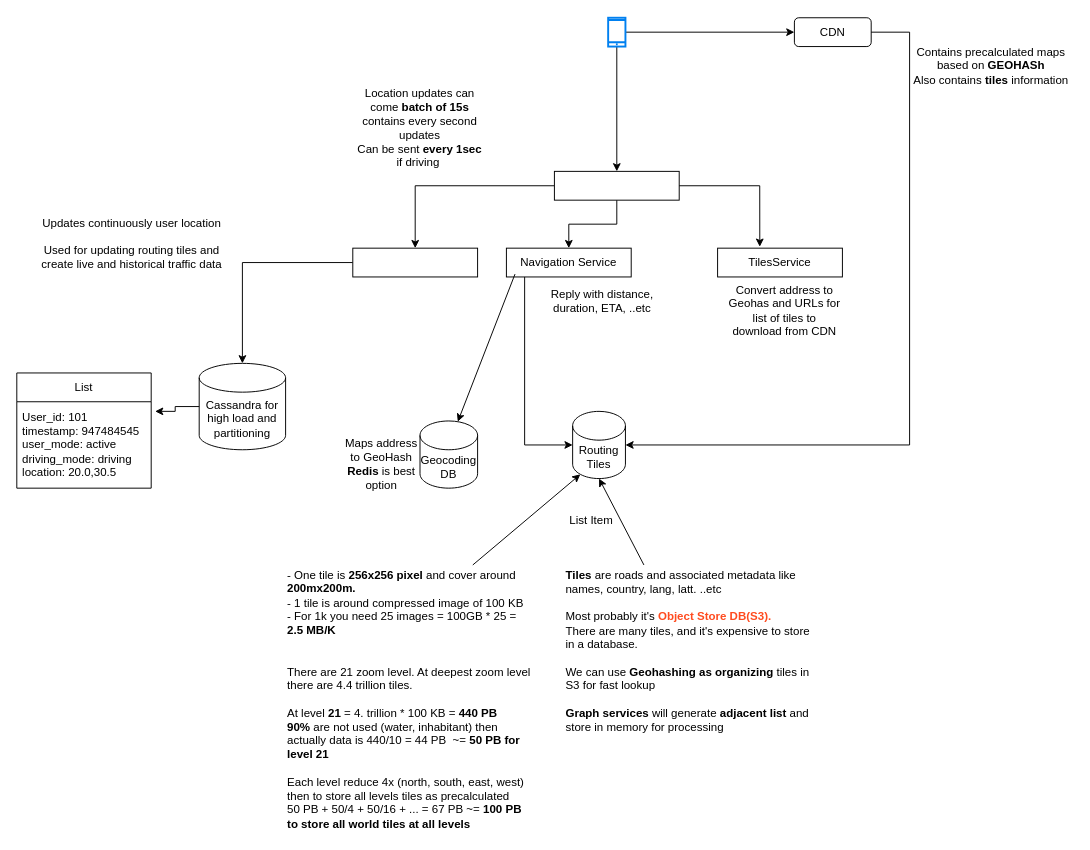
Image size: 1090x850. Some labels were removed from this diagram. The shapes that lost their labels are listed below. From the top down, each one's box as (x1, y1, x2, y2) in pixels, then its label:
(607, 16, 626, 47): Mobile user
(553, 170, 679, 200): web server
(352, 247, 478, 277): LocationService
